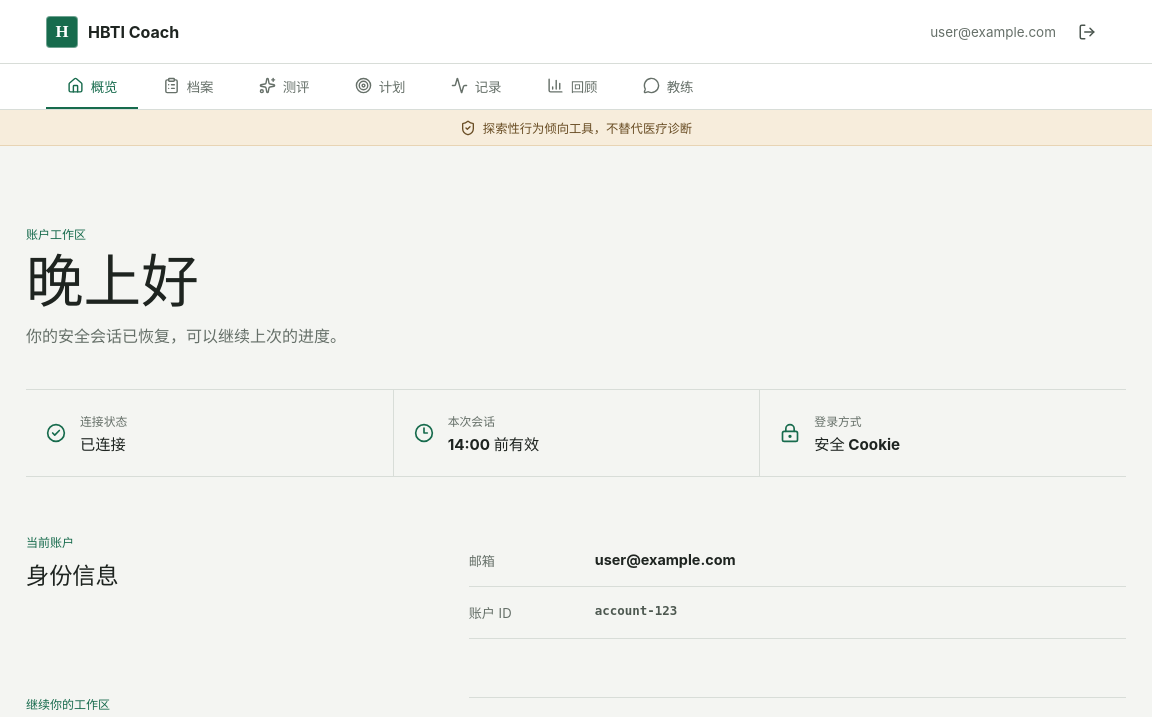
Test: account experience › keeps the session visible when server-side logout is not confirmed
Click the button named "退出登录" at (1087, 32), box [1068,12,1106,50]
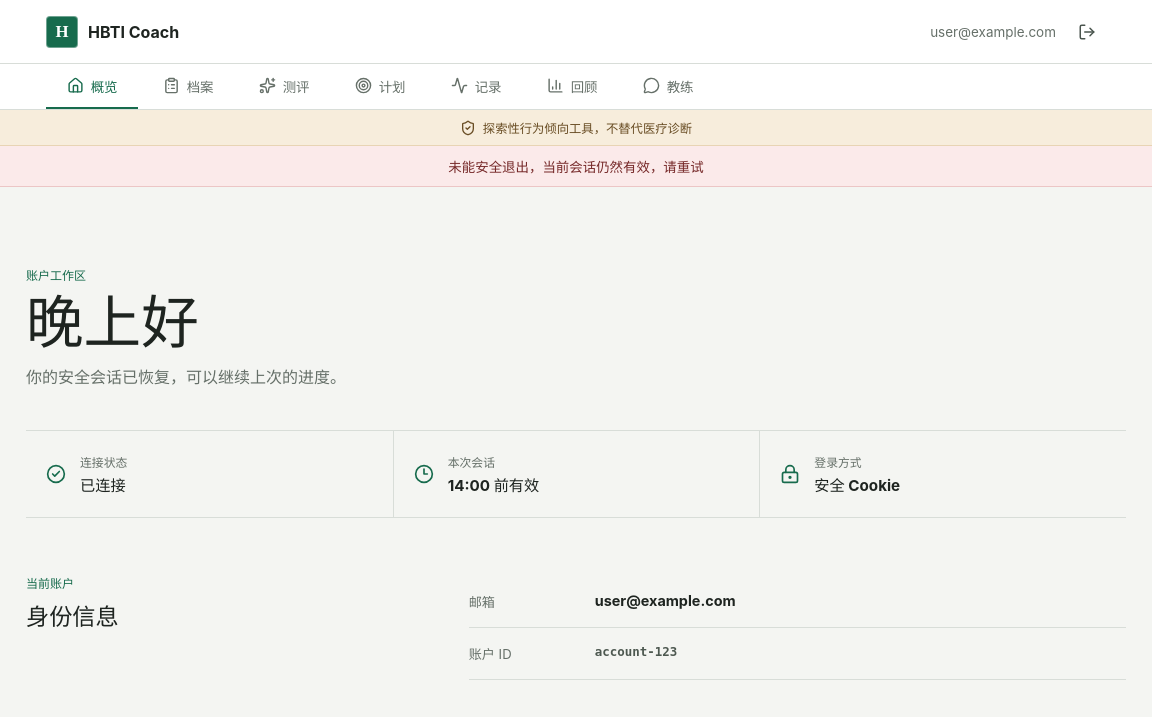
Check: the heading "身份信息" is shown, box [26,603,119,631]
Check: the message shows "当前会话仍然有效", box [448,159,704,175]
